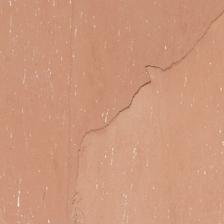Crack: (78, 11, 222, 154)
